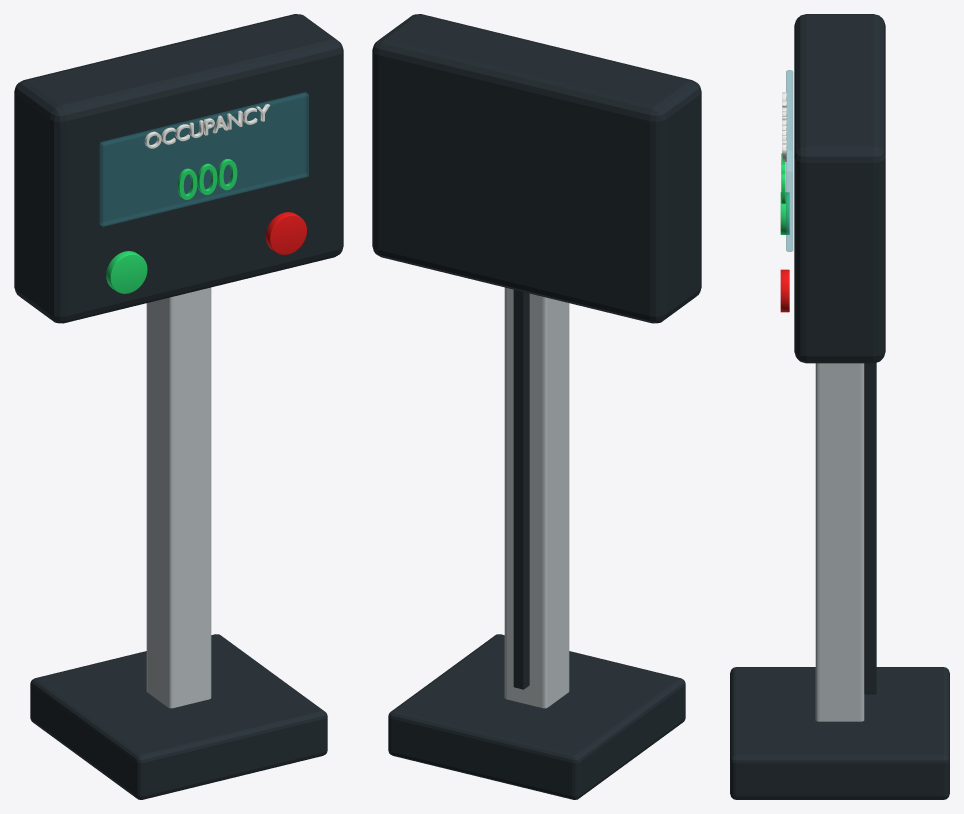
File: occupancy_display.glb
3 renders of one model, left to right at view 1: azimuth 30°, elevation 25°; view 2: azimuth 150°, elevation 25°; view 3: azimuth 270°, elevation 25°, orthographic.
Visible parts, largest first — view 1: DISPLAY_HOUSING, DISPLAY_BASE, DISPLAY_POST, DISPLAY_SCREEN, DISPLAY_TEXT, DISPLAY_GREEN, DISPLAY_RED, DISPLAY_COUNT; view 2: DISPLAY_HOUSING, DISPLAY_BASE, DISPLAY_POST, DISPLAY_WIRING; view 3: DISPLAY_HOUSING, DISPLAY_BASE, DISPLAY_POST, DISPLAY_WIRING, DISPLAY_SCREEN, DISPLAY_RED.
Part boxes in pixels (<box>): DISPLAY_HOUSING: <box>14,14,343,323</box>; DISPLAY_BASE: <box>30,634,327,799</box>; DISPLAY_POST: <box>146,287,211,708</box>; DISPLAY_SCREEN: <box>99,92,308,226</box>; DISPLAY_TEXT: <box>144,104,270,148</box>; DISPLAY_GREEN: <box>106,251,147,293</box>; DISPLAY_RED: <box>265,212,306,254</box>; DISPLAY_COUNT: <box>177,159,237,199</box>; DISPLAY_HOUSING: <box>372,14,701,323</box>; DISPLAY_BASE: <box>388,634,685,799</box>; DISPLAY_POST: <box>504,287,569,708</box>; DISPLAY_WIRING: <box>513,289,529,689</box>; DISPLAY_HOUSING: <box>794,14,885,363</box>; DISPLAY_BASE: <box>730,667,949,799</box>; DISPLAY_POST: <box>815,363,864,721</box>; DISPLAY_WIRING: <box>864,362,876,694</box>; DISPLAY_SCREEN: <box>786,70,793,251</box>; DISPLAY_RED: <box>780,269,789,312</box>.
Size of the model in its own units: 1.1 by 2.44 by 0.72.
